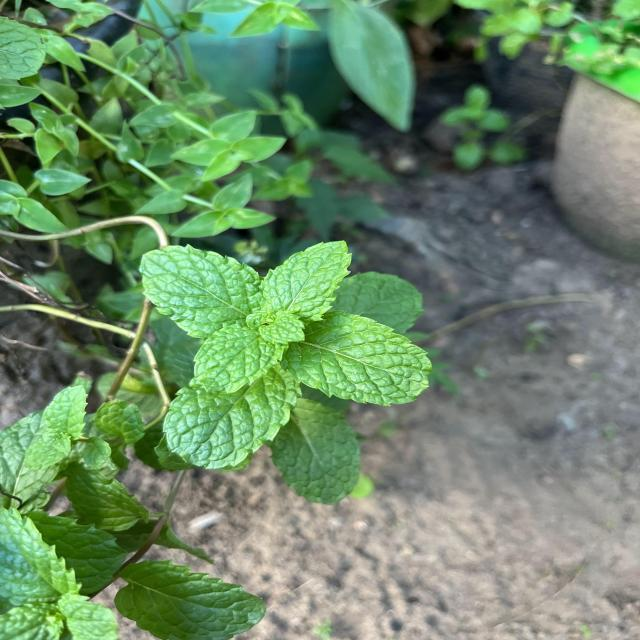Mentha spicata: (280, 308, 434, 408), (162, 379, 304, 471), (138, 241, 264, 341), (258, 238, 354, 324), (192, 318, 288, 396)
